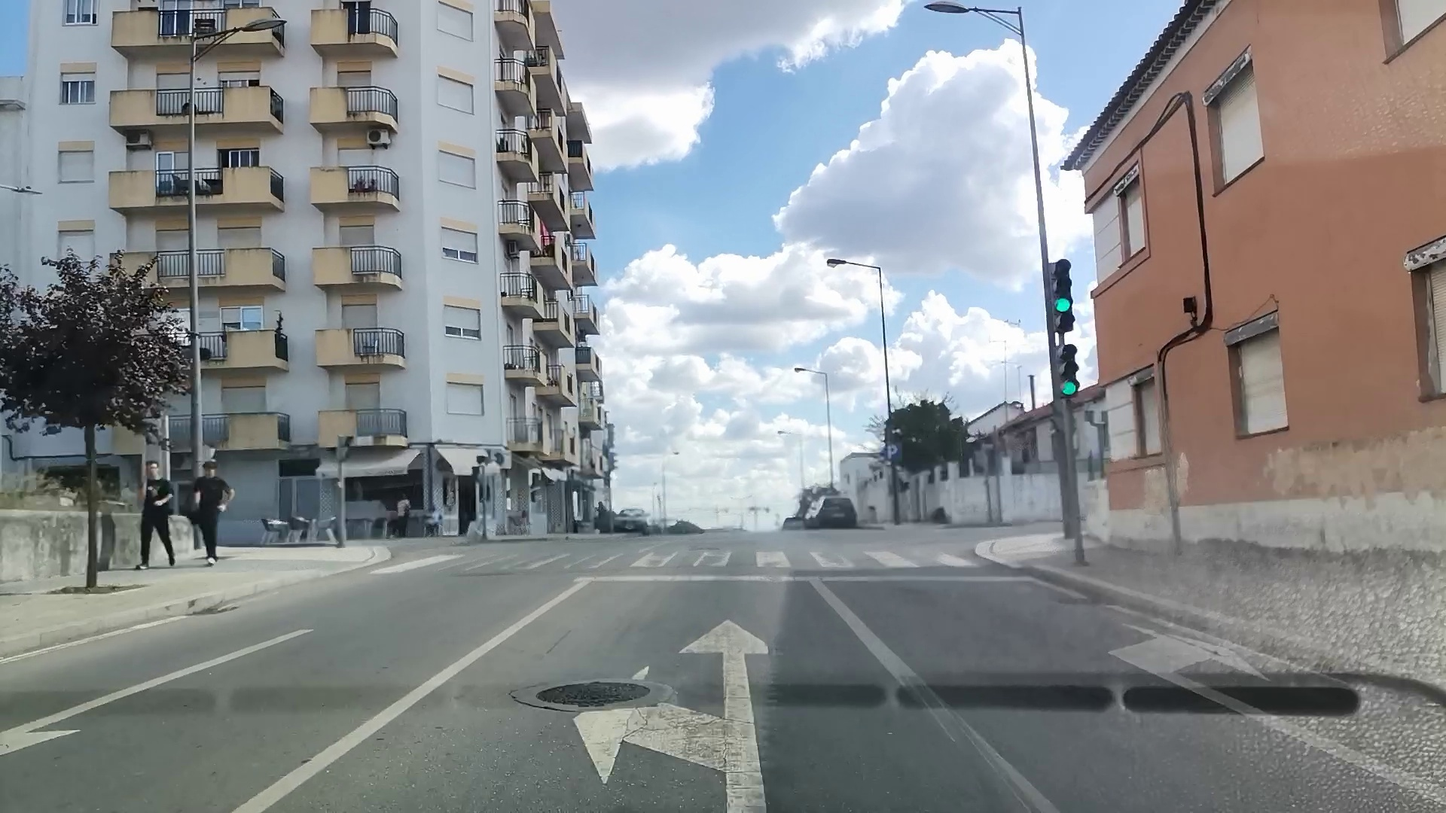Stairs: (375, 547, 992, 572)
